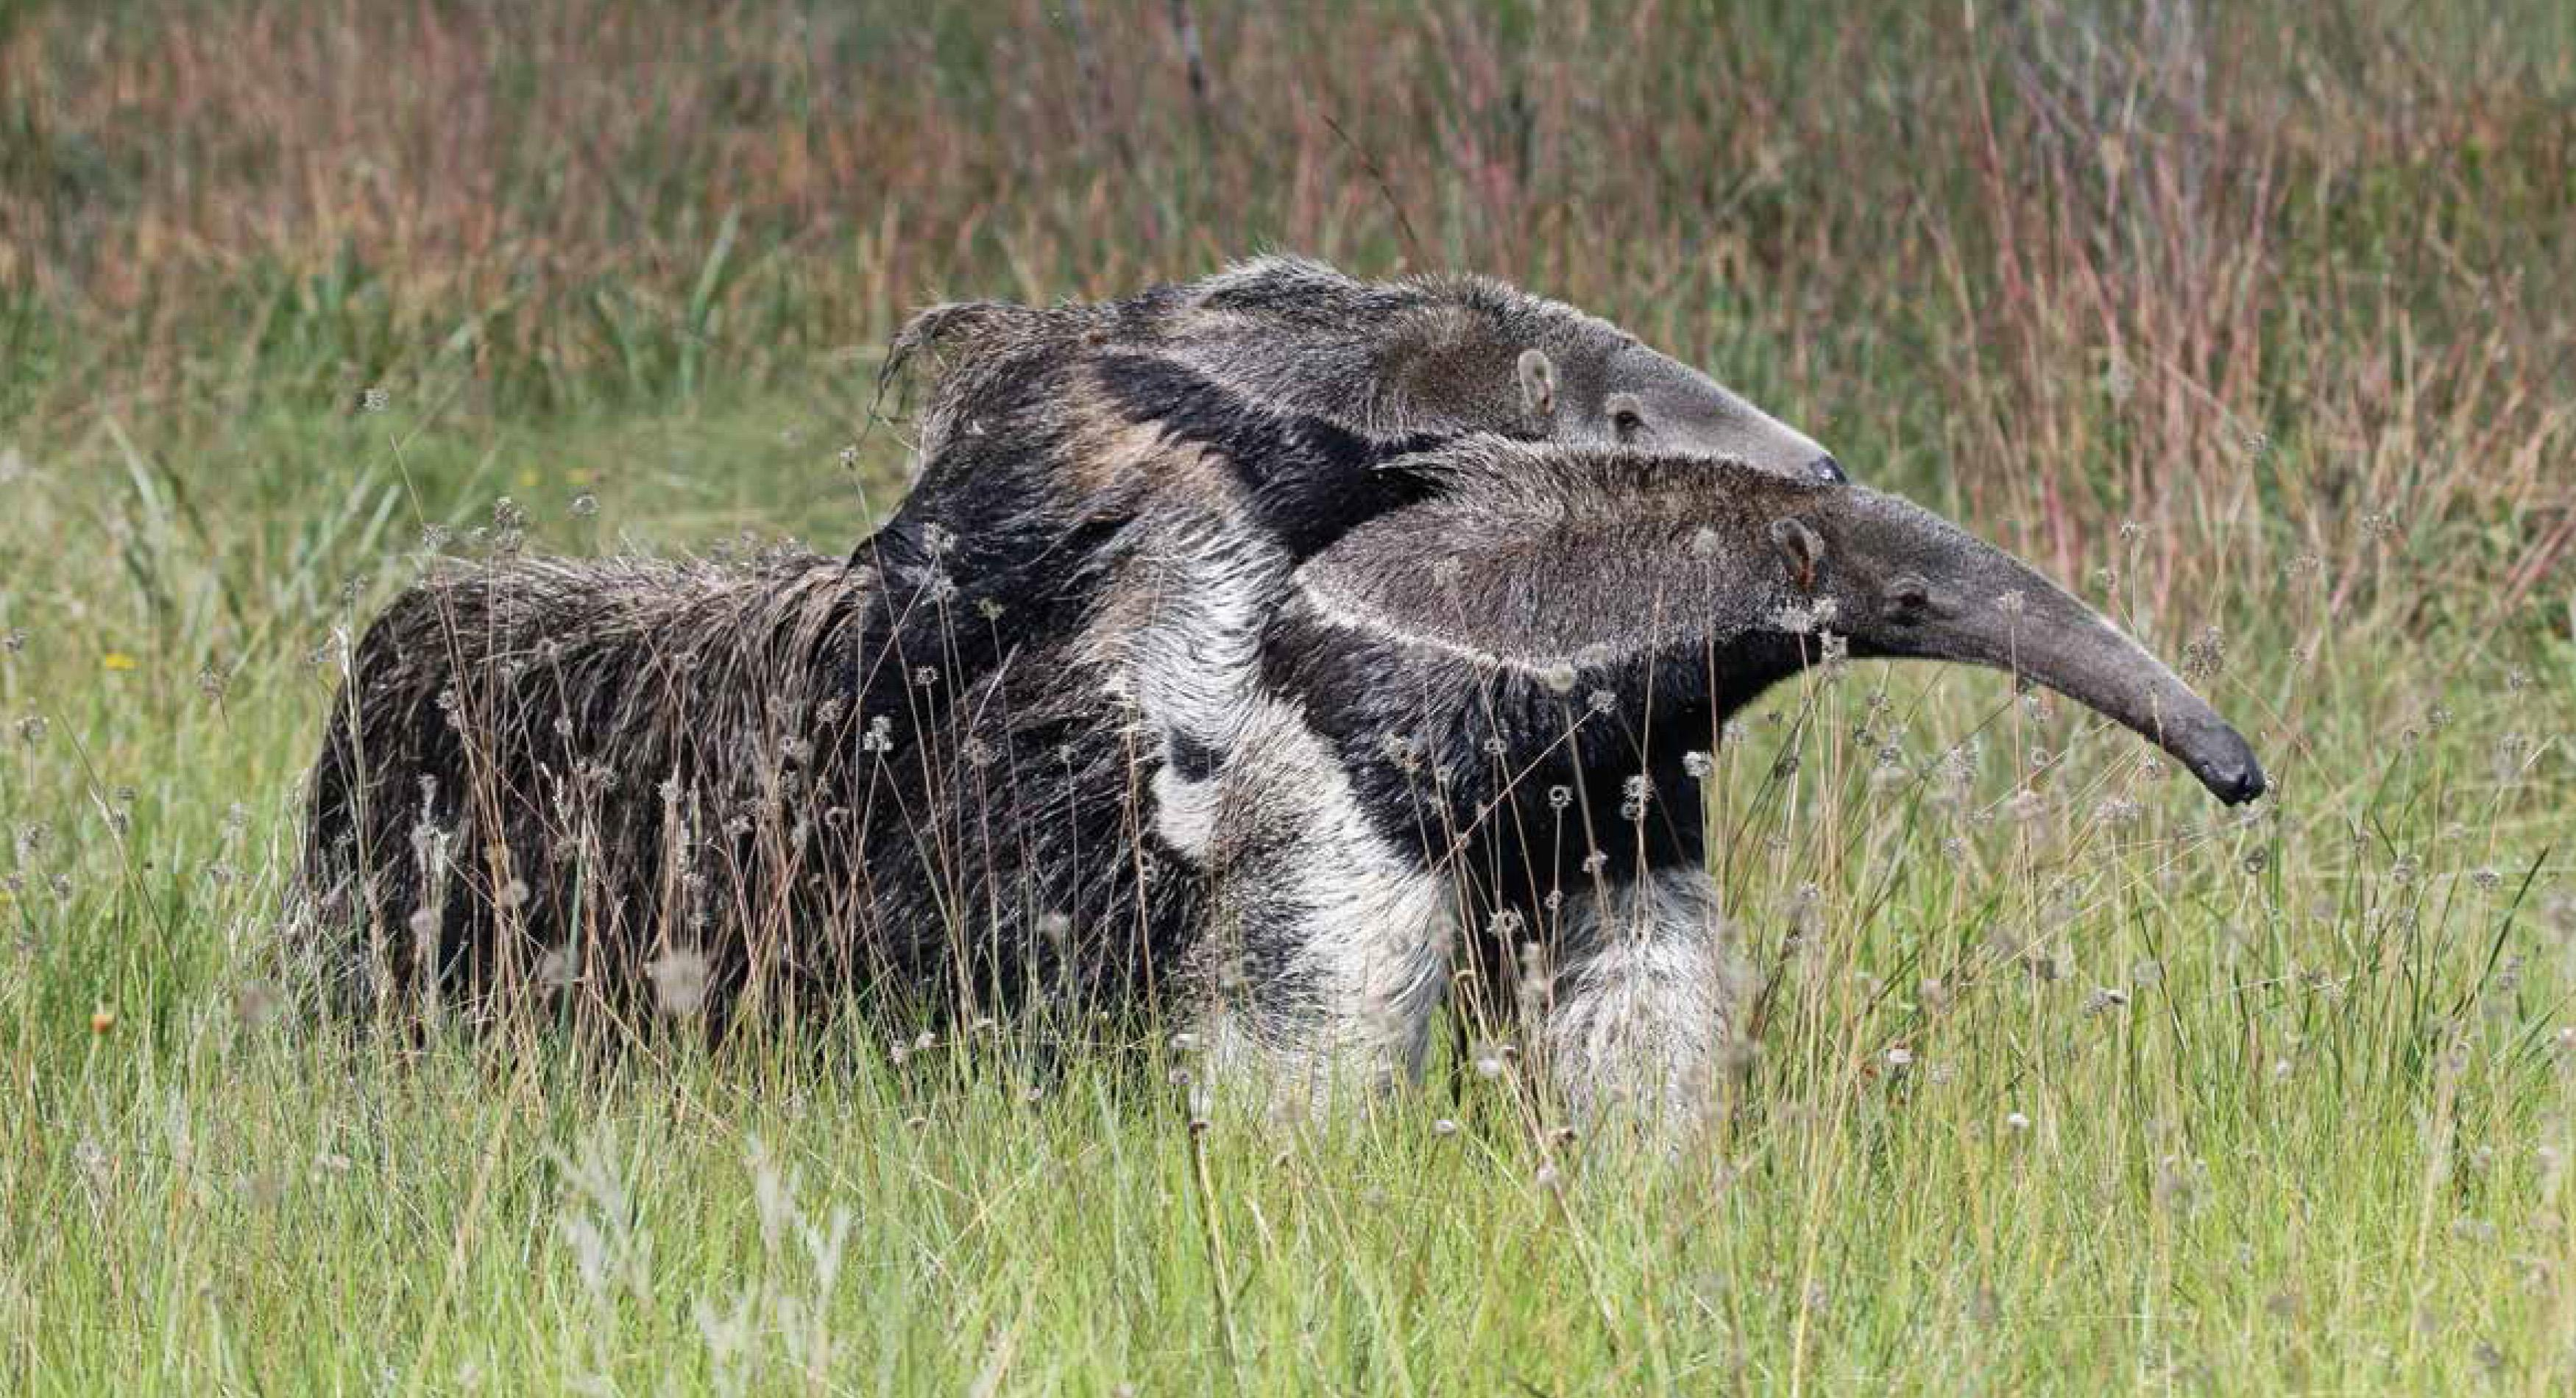TamanduaBandeira: (232, 451, 2276, 1164), (827, 238, 1868, 895)
